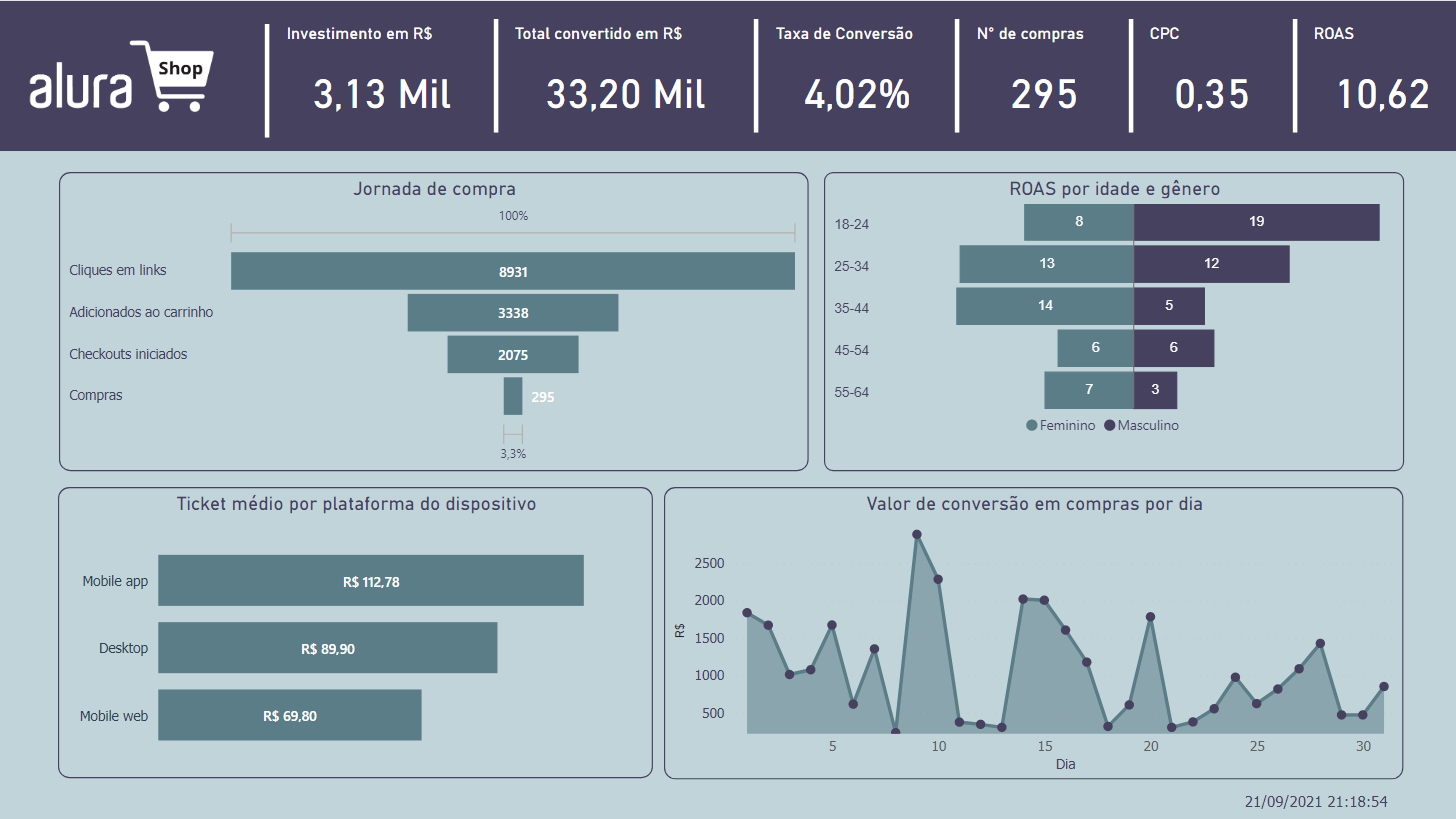

The dashboard page shown, as its layout file describes it:
{"tool":"powerbi","page":{"name":"Página 1","canvas":[1280,720],"ordinal":0},"visuals":[{"type":"shape","box":[0,0,1280.2,132.3],"z":0},{"type":"card","title":"Taxa de Compras","fields":{"Values":["Tabela_dispositivos.Total de Compras"]},"box":[853.4,20.4,128.7,100.3],"z":1000},{"type":"card","title":"Total Convertido","fields":{"Values":["Tabela_dispositivos.Total convertido em compras"]},"box":[447.5,20.4,205.1,100.3],"z":2000},{"type":"card","title":"Investimento","fields":{"Values":["Tabela_dispositivos.Total investido"]},"box":[246.8,20.4,176.7,100.3],"z":3000},{"type":"card","title":"CPC","fields":{"Values":["Tabela_dispositivos.CPC"]},"box":[1006.1,20.4,119.9,100.3],"z":4000},{"type":"card","title":"Taxa de Conversão","fields":{"Values":["Tabela_dispositivos.Taxa de Conversão"]},"box":[676.6,20.4,152.7,100.3],"z":5000},{"type":"card","title":"ROAS","fields":{"Values":["Tabela_dispositivos.ROAS"]},"box":[1150,20,130,100.3],"z":6000},{"type":"image","box":[21.3,24.9,172.2,82.6],"z":7000},{"type":"shape","box":[223.7,20.4,23.1,100.3],"z":8000},{"type":"shape","box":[424.4,16,23.1,100.3],"z":9000},{"type":"shape","box":[653.4,16,23.1,100.3],"z":10000},{"type":"shape","box":[830.1,16,23.1,100.3],"z":11000},{"type":"shape","box":[982.8,16,23.1,100.3],"z":12000},{"type":"shape","box":[1126.6,16,23.1,100.3],"z":13000},{"type":"funnel","title":"Jornada de compra","fields":{"Y":["Sum(Tabela_dispositivos.Cliques em links)","Sum(Tabela_dispositivos.Adicionados ao carrinho)","Sum(Tabela_dispositivos.Checkouts Iniciados)","Sum(Tabela_dispositivos.Compras)"]},"box":[51.5,150,658.7,262.8],"z":14000},{"type":"TornadoChart1452517688218","title":"ROAS por idade e gênero","fields":{"Category":["Tabela_idade_e_genero.Idade"],"Values":["Tabela_dispositivos.ROAS"],"Series":["Tabela_idade_e_genero.Gênero"]},"box":[724.4,150,509.6,262.8],"z":15000},{"type":"areaChart","title":"Valor de conversão de compras por dia","fields":{"Category":["Tabela_idade_e_genero.Dia.Variation.Hierarquia de datas.Dia"],"Y":["Sum(Tabela_idade_e_genero.Valor de conversão de compras)"]},"box":[584.2,427,649.9,256.6],"z":16000},{"type":"clusteredBarChart","fields":{"Category":["Tabela_dispositivos.Plataforma do dispositivo"],"Y":["Tabela_dispositivos.Ticket médio"]},"box":[51.1,427,522.6,256.4],"z":17000},{"type":"card","title":"Atualizado em :","fields":{"Values":["Min(Última atualização.Última atualização)"]},"box":[1079.5,692.7,154.9,27.3],"z":17001}]}

Visuals, with their boxes in screenshot pixels (x1, y1, x2, y2), scaled from the page's 1280x720 canvas onto the 1456x819 screenshot:
shape: locate(0, 0, 1455, 150)
"Taxa de Compras" card: locate(971, 23, 1117, 137)
"Total Convertido" card: locate(509, 23, 742, 137)
"Investimento" card: locate(281, 23, 482, 137)
"CPC" card: locate(1144, 23, 1281, 137)
"Taxa de Conversão" card: locate(770, 23, 943, 137)
"ROAS" card: locate(1308, 23, 1455, 137)
image: locate(24, 28, 220, 122)
shape: locate(254, 23, 281, 137)
shape: locate(483, 18, 509, 132)
shape: locate(743, 18, 770, 132)
shape: locate(944, 18, 971, 132)
shape: locate(1118, 18, 1144, 132)
shape: locate(1282, 18, 1308, 132)
"Jornada de compra" funnel: locate(59, 171, 808, 470)
"ROAS por idade e gênero" TornadoChart1452517688218: locate(824, 171, 1404, 470)
"Valor de conversão de compras por dia" areaChart: locate(665, 486, 1404, 778)
clusteredBarChart - Tabela_dispositivos.Plataforma do dispositivo x Tabela_dispositivos.Ticket médio: locate(58, 486, 653, 777)
"Atualizado em :" card: locate(1228, 788, 1404, 818)
